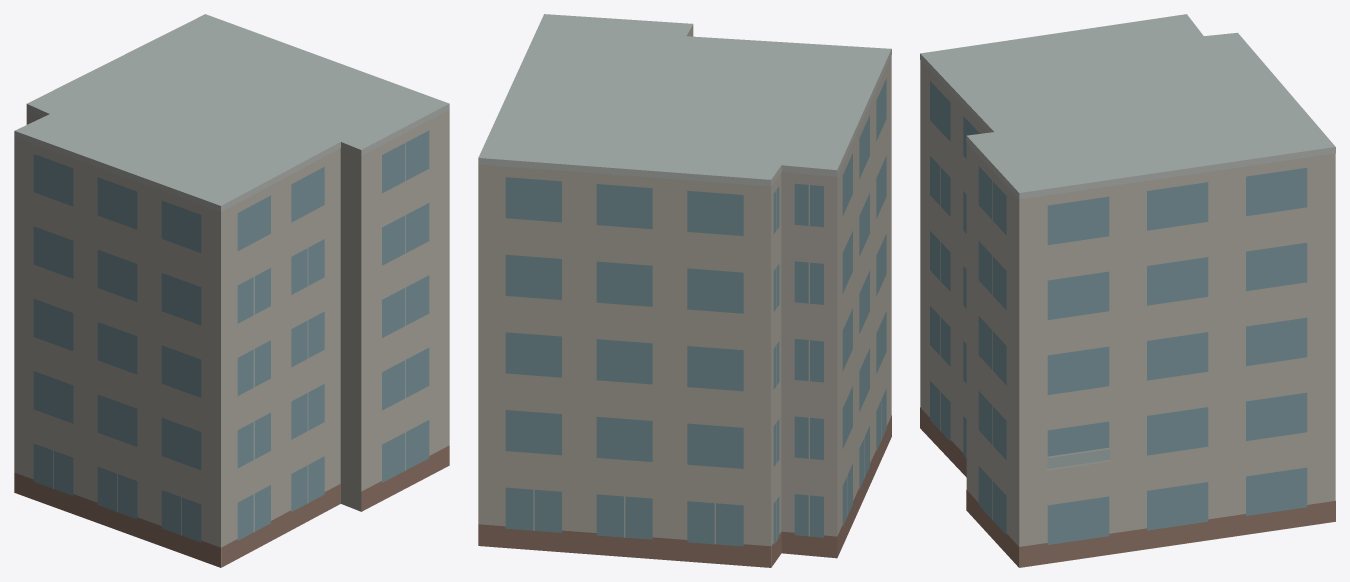
Rendered from survey-upis-32864813.glb.
3 views of the same model, side by side, from view 1: azimuth 30°, elevation 25°; view 2: azimuth 150°, elevation 25°; view 3: azimuth 270°, elevation 25° (orthographic). The views are drawn at different scales.
Visible parts, largest first — view 1: survey-upis-32864813.tmp; view 2: survey-upis-32864813.tmp; view 3: survey-upis-32864813.tmp.
Boxes of the visible parts, x1=… form: survey-upis-32864813.tmp: x1=14, y1=14, x2=449, y2=567; survey-upis-32864813.tmp: x1=478, y1=14, x2=891, y2=567; survey-upis-32864813.tmp: x1=920, y1=14, x2=1335, y2=567.
Bounding box in the file's own units: 14.66 × 14.3 × 14.38.
